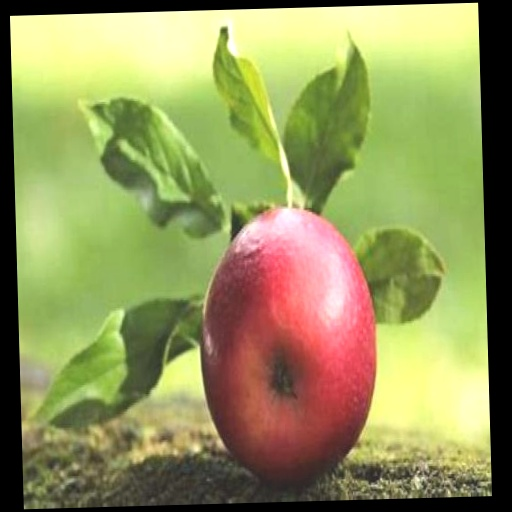fruit: (202, 209, 376, 482)
